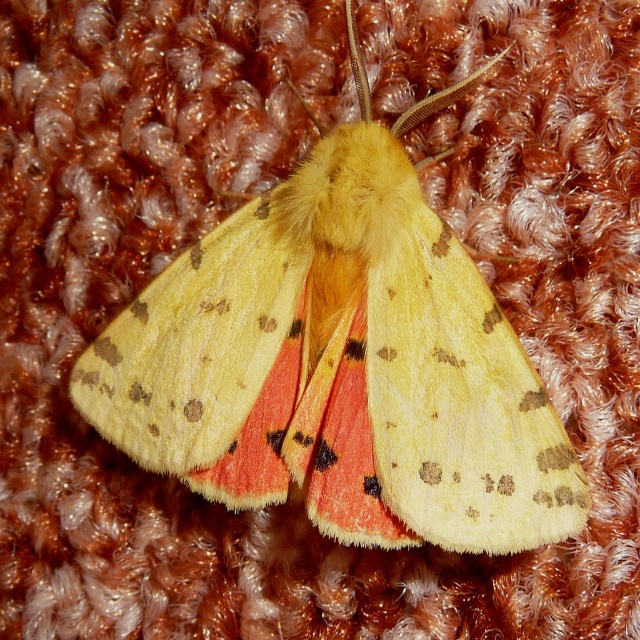Moths and butterflies: (69, 0, 597, 566)
